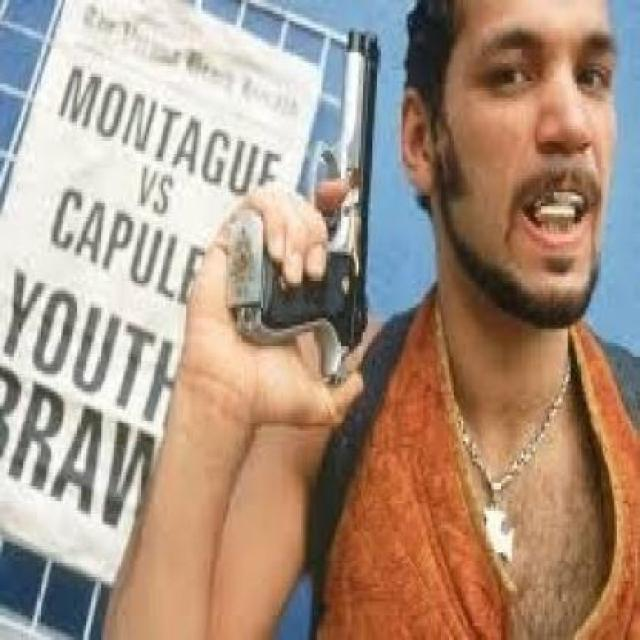Pistol: (222, 11, 378, 347)
